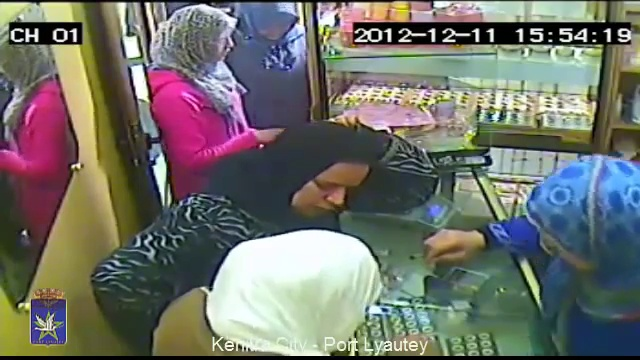face: (288, 156, 360, 216)
